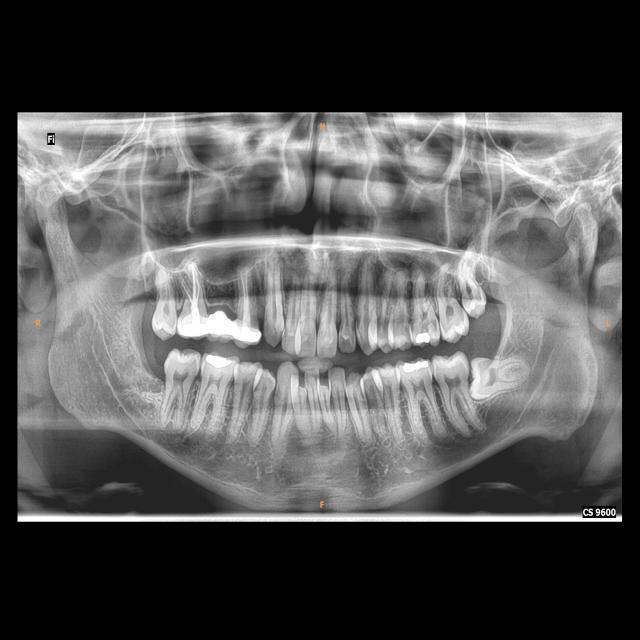dentin-curugu: (337, 327, 360, 356)
dolgu: (202, 349, 237, 376)
kanal-tedavisi: (179, 265, 207, 315)
kaplama: (234, 317, 262, 349), (178, 312, 210, 338)
kopru: (200, 301, 246, 344)
